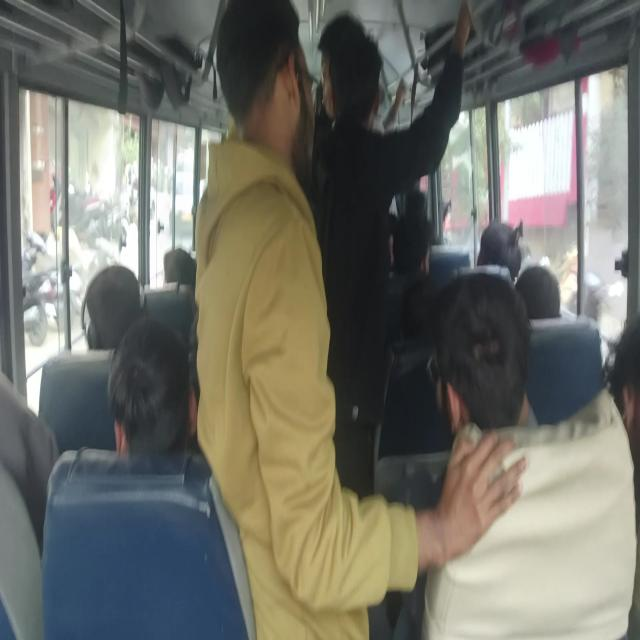person: (438, 276, 535, 437), (106, 317, 198, 460), (214, 1, 302, 127), (319, 13, 379, 122), (87, 270, 143, 338), (141, 282, 196, 350), (469, 222, 523, 277), (394, 215, 431, 292), (516, 264, 561, 322), (164, 248, 197, 288)
